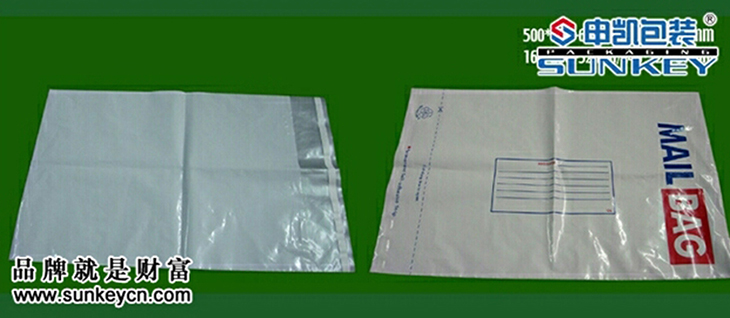塑料袋: (372, 88, 729, 279), (12, 90, 353, 280)
